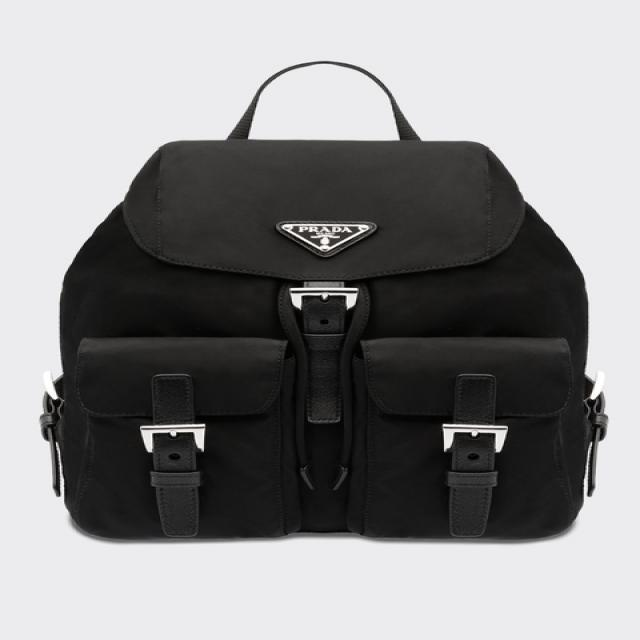Backpacks: (42, 136, 608, 548)
